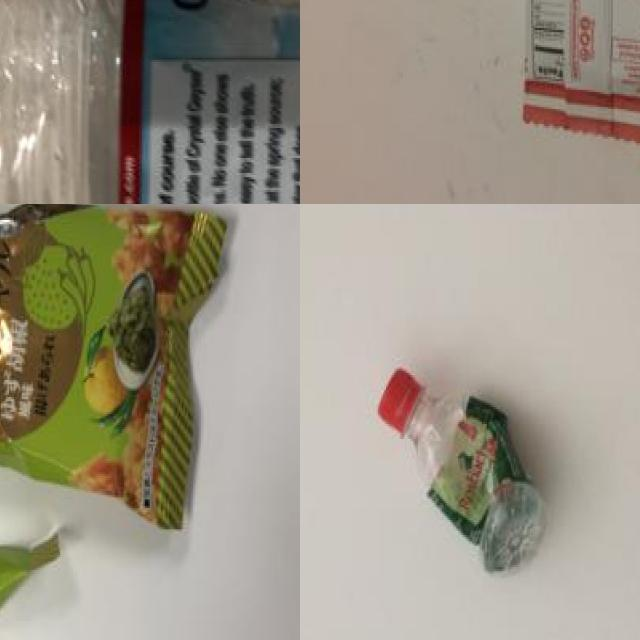plastic: (0, 0, 300, 204), (370, 362, 572, 584)
trash: (0, 204, 242, 538), (502, 0, 640, 173)
